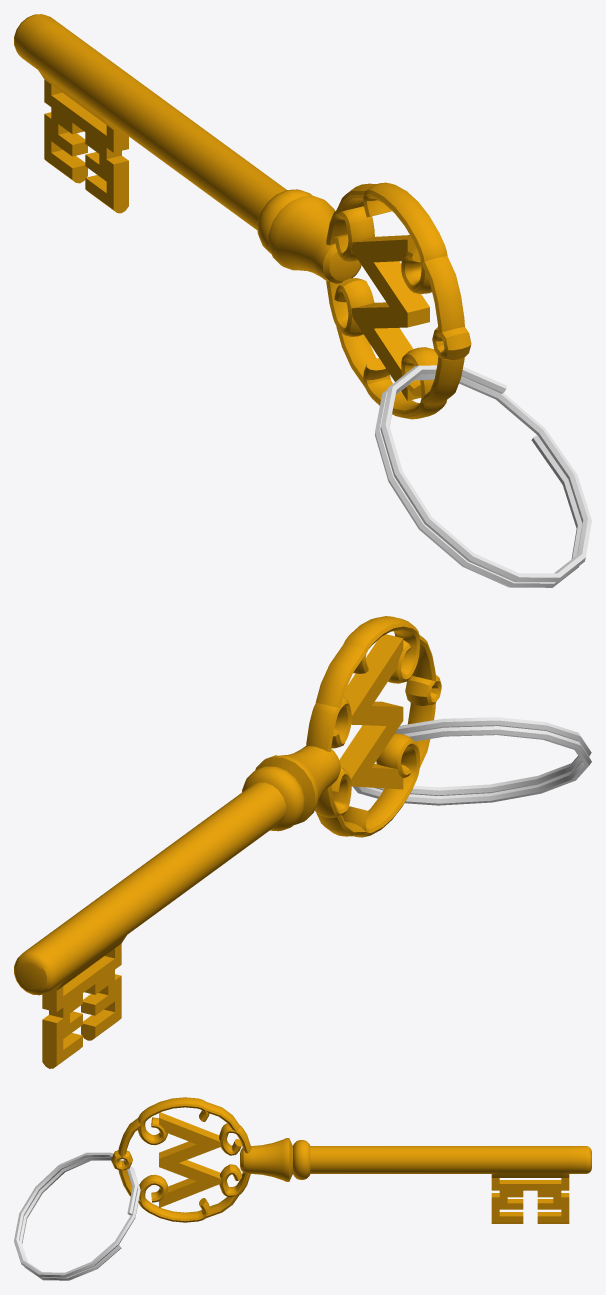
The model's file is Key1.fbx.
3 renders of one model, top to bottom at view 1: azimuth 30°, elevation 25°; view 2: azimuth 150°, elevation 25°; view 3: azimuth 270°, elevation 25°, orthographic. The views are drawn at different scales.
Visible parts, largest first — view 1: Cylinder; view 2: Cylinder; view 3: Cylinder.
Part boxes in pixels (<box>): Cylinder: <box>14,14,591,587</box>; Cylinder: <box>14,616,591,1068</box>; Cylinder: <box>14,1097,591,1280</box>.
Size of the model in its own units: 27.08 by 35.93 by 113.
